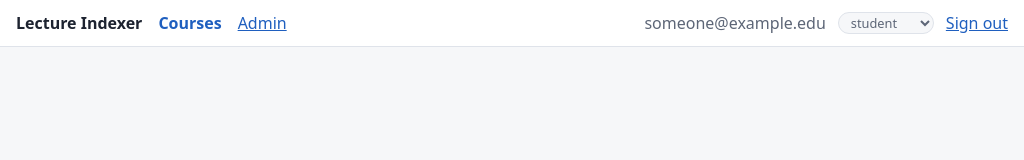
Scenario: <Layout> › shows why a switch failed
Select "professor" in the dropdown named "Your role". click: (886, 23)
box: [838,12,934,34]
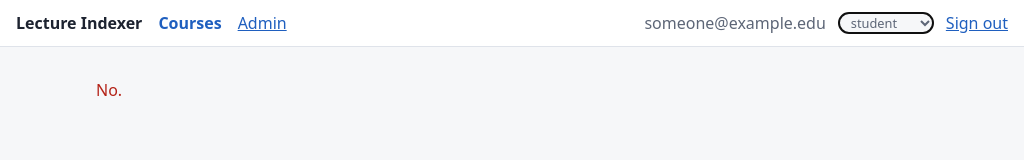
Expected: the message reads "No.", [96,79,122,101]
